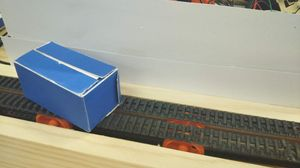box3: (13, 39, 122, 133)
